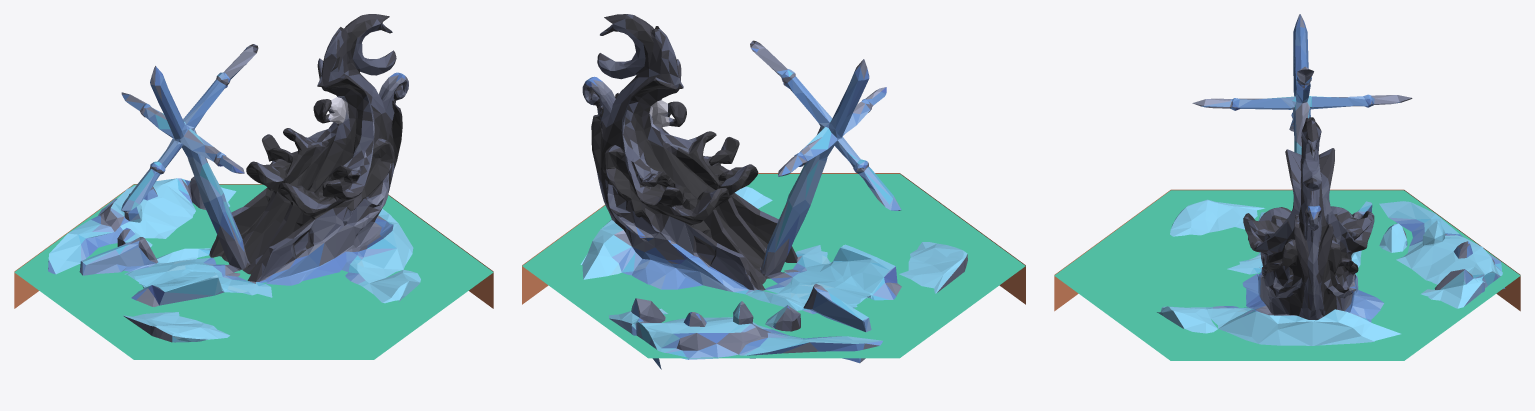
File: sunken-elven-ship.glb
3 views of the same model, side by side, from view 1: azimuth 30°, elevation 25°; view 2: azimuth 150°, elevation 25°; view 3: azimuth 270°, elevation 25° (orthographic). The views are drawn at different scales.
Visible parts, largest first — view 1: world, hexBase; view 2: world, hexBase; view 3: world, hexBase.
Boxes of the visible parts, <box> form: world: <box>48,14,420,342</box>; hexBase: <box>14,184,493,359</box>; world: <box>580,14,967,369</box>; hexBase: <box>522,173,1025,358</box>; world: <box>1157,14,1505,345</box>; hexBase: <box>1054,189,1520,360</box>.
Bounding box in the file's own units: 1 × 0.6936 × 1.15.
3 materials, 3 textured.
